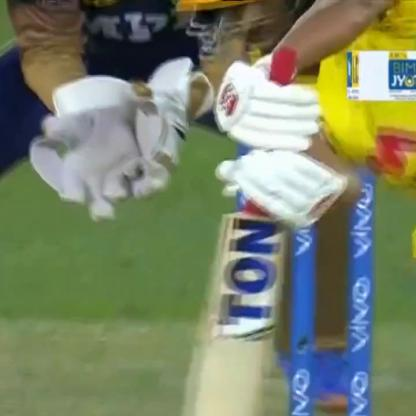bat: (180, 30, 309, 416)
